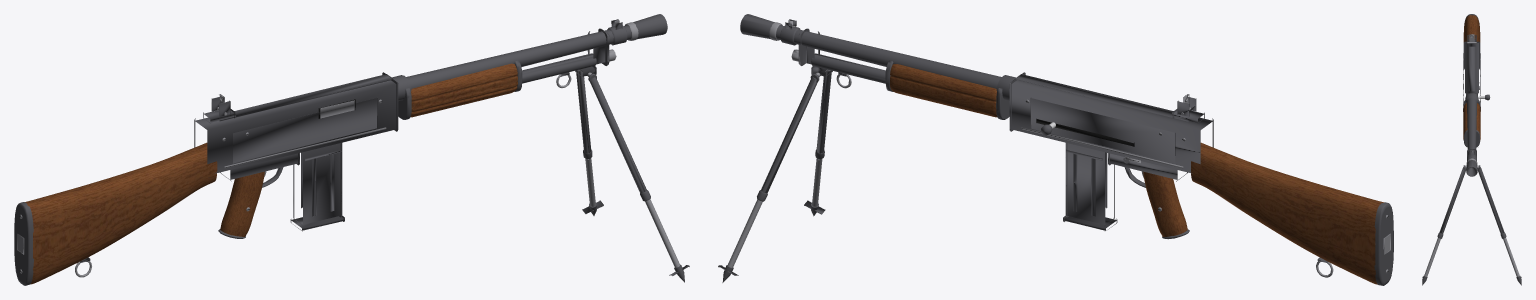
Rendered from lmg_wz28.glb.
The picture shows the model from 3 angles, left to right: view 1: azimuth 30°, elevation 25°; view 2: azimuth 150°, elevation 25°; view 3: azimuth 270°, elevation 25°; orthographic projection. The views are drawn at different scales.
Visible parts, largest first — view 1: lmg_wz28_steel, lmg_wz28_wood, lmg_wz28_steel_worn; view 2: lmg_wz28_steel, lmg_wz28_wood, lmg_wz28_steel_worn, lmg_wz28_dark; view 3: lmg_wz28_steel, lmg_wz28_wood, lmg_wz28_steel_worn.
Boxes of the visible parts, <box> form: lmg_wz28_steel: <box>14,14,689,285</box>; lmg_wz28_wood: <box>25,63,517,284</box>; lmg_wz28_steel_worn: <box>17,20,680,277</box>; lmg_wz28_steel: <box>718,14,1393,285</box>; lmg_wz28_wood: <box>890,64,1384,284</box>; lmg_wz28_steel_worn: <box>727,20,1390,277</box>; lmg_wz28_dark: <box>1026,101,1388,272</box>; lmg_wz28_steel: <box>1422,14,1521,285</box>; lmg_wz28_wood: <box>1463,15,1480,139</box>; lmg_wz28_steel_worn: <box>1424,34,1519,276</box>.
Bounding box in the file's own units: 1.11 × 0.4234 × 0.2727.
Materials: 5 (1 with a texture image).
